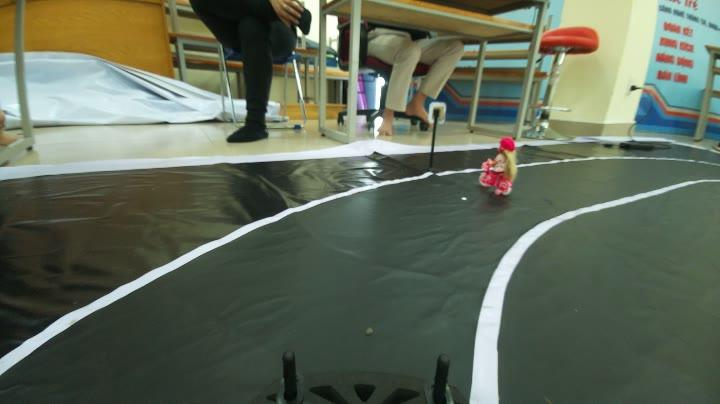pedestrian: (475, 123, 520, 200)
